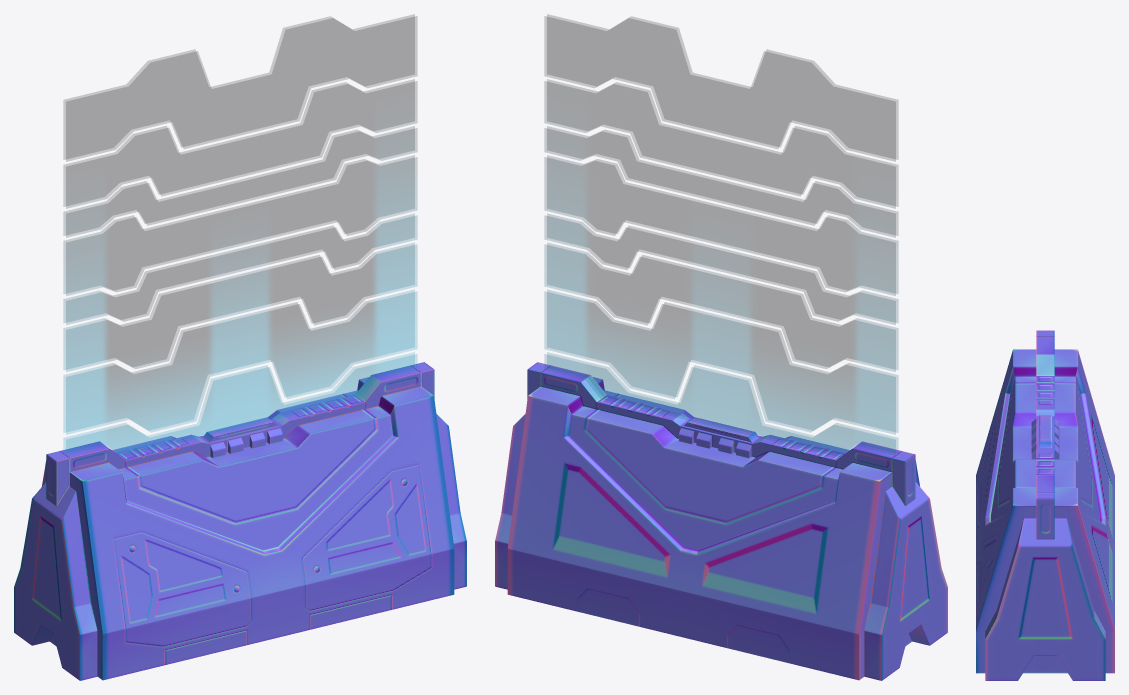
Rendered from BSWap_SciFiBarrier_01.obj.
3 renders of one model, left to right at view 1: azimuth 30°, elevation 25°; view 2: azimuth 150°, elevation 25°; view 3: azimuth 270°, elevation 25°, orthographic. The views are drawn at different scales.
Visible parts, largest first — view 1: BarrierLP_Cube.001; view 2: BarrierLP_Cube.001; view 3: BarrierLP_Cube.001.
Part boxes in pixels (<box>): BarrierLP_Cube.001: <box>14,14,466,680</box>; BarrierLP_Cube.001: <box>495,14,947,680</box>; BarrierLP_Cube.001: <box>976,330,1114,680</box>.
Size of the model in its own units: 88 by 124 by 30.
